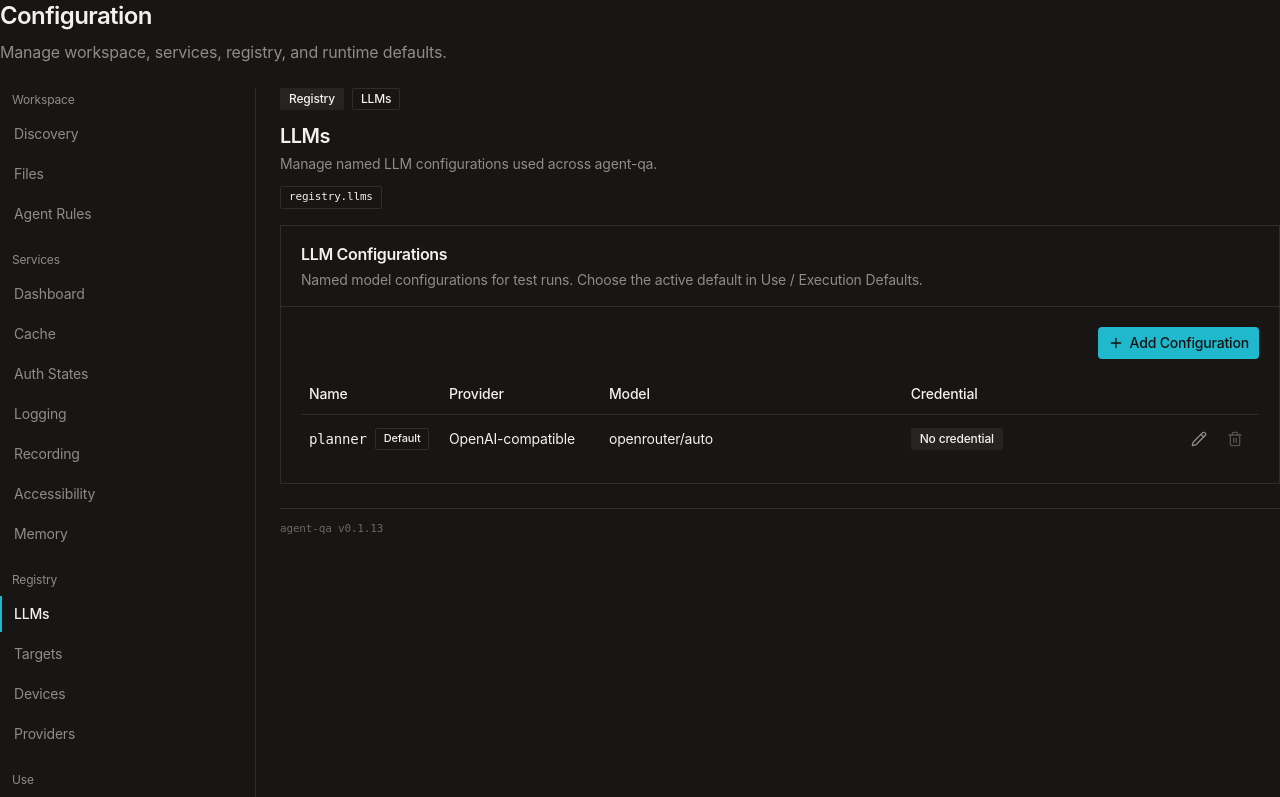
ConfigPage schema-driven shell › does not render blocking no-api-key copy for compatible no-key tests
This screenshot has width=1280, height=797.
Click the button titled "Edit configuration" at (1199, 439), box left=1183, top=423, right=1215, bottom=455
(page scrolled)
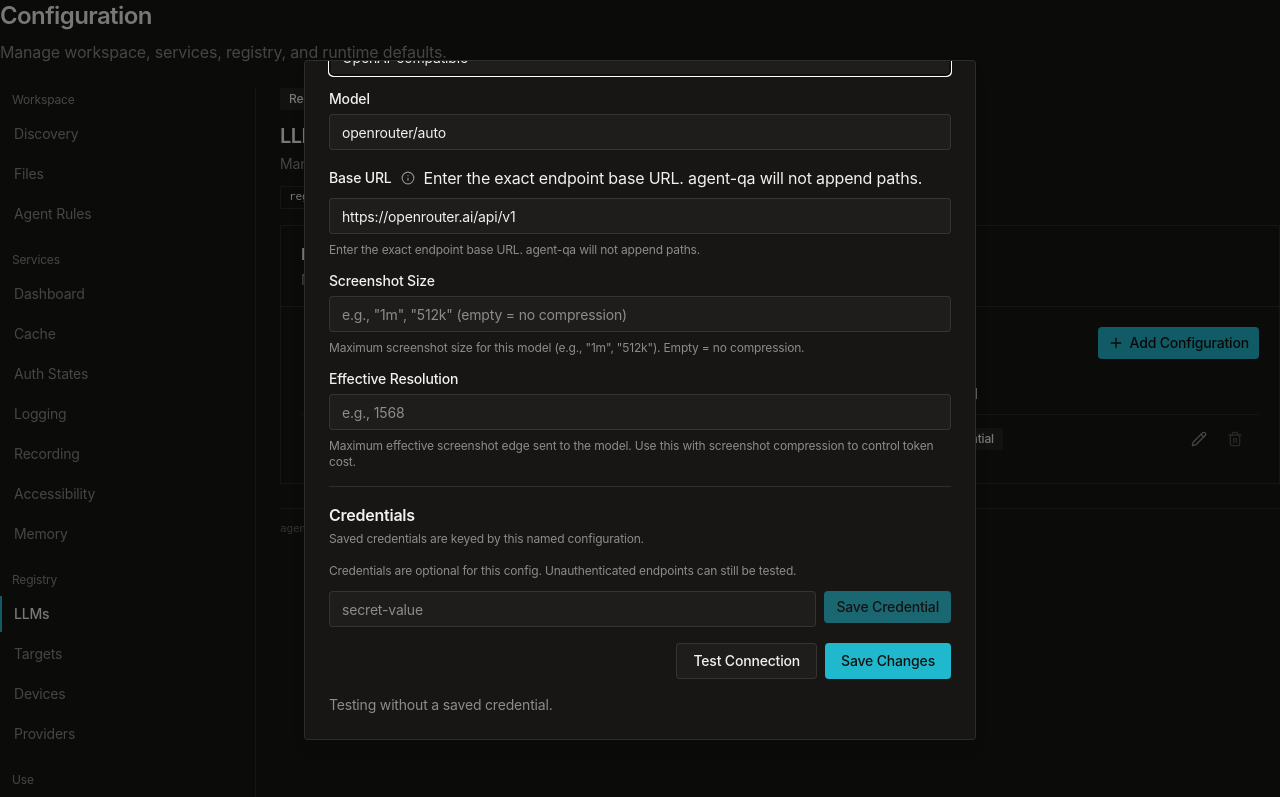
Click the button "Test Connection" at (747, 661), box left=676, top=643, right=817, bottom=679
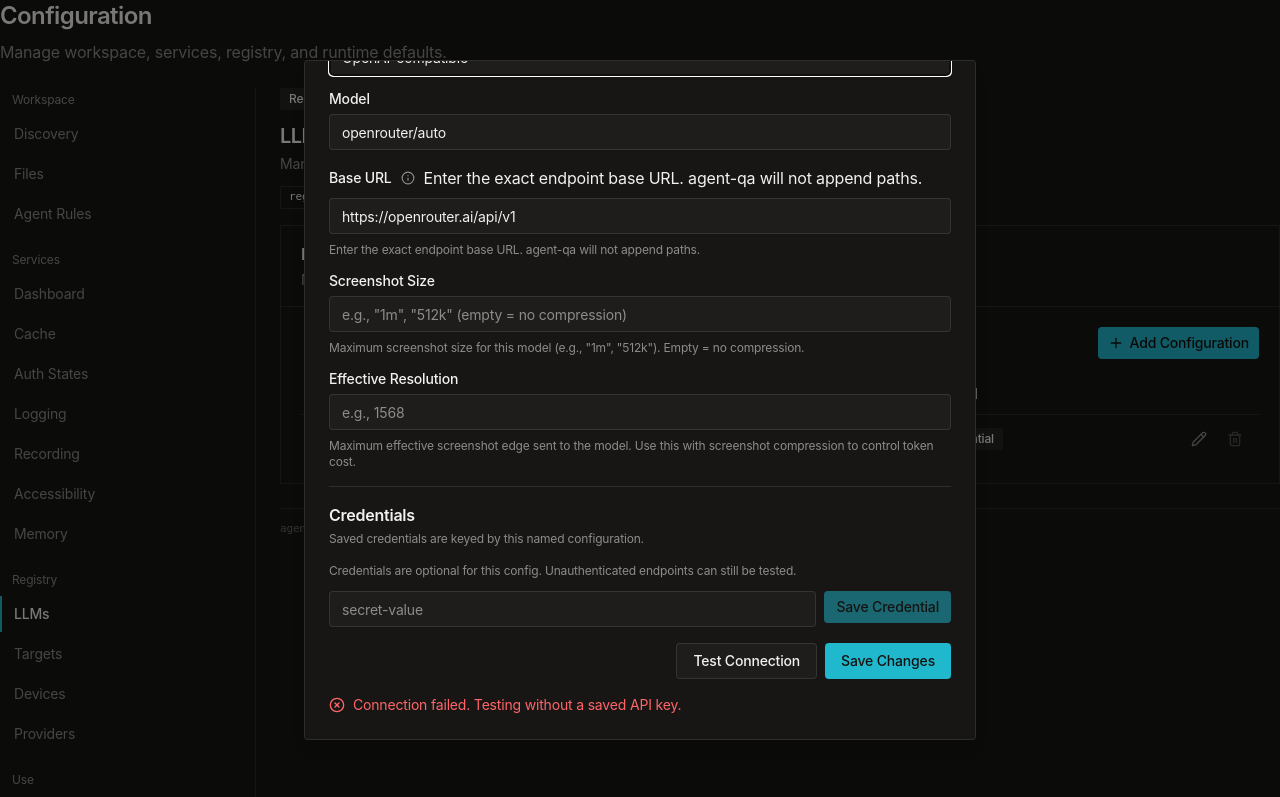
Expected: the text "Testing without a saved API key." is shown, left=353, top=696, right=681, bottom=713
